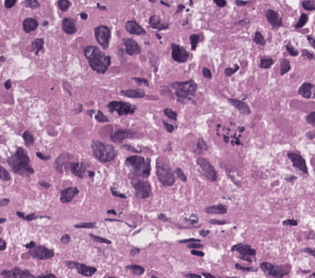nucleus: (83, 46, 110, 73), (91, 140, 116, 162), (170, 79, 196, 99), (126, 156, 150, 177), (156, 158, 174, 185), (197, 157, 216, 181), (288, 152, 307, 173), (94, 25, 110, 48), (107, 101, 135, 114), (228, 98, 250, 114), (133, 179, 151, 198), (171, 43, 188, 62), (110, 129, 134, 142), (55, 153, 71, 172), (123, 38, 140, 55), (265, 9, 281, 27), (149, 15, 168, 30), (60, 187, 78, 202), (125, 20, 144, 34), (298, 82, 313, 97), (70, 162, 86, 176), (62, 18, 76, 33), (120, 89, 144, 97), (205, 204, 226, 213), (90, 234, 110, 243), (295, 14, 307, 28), (32, 38, 43, 53), (280, 58, 290, 74), (253, 31, 264, 45), (224, 65, 238, 76), (175, 167, 186, 181), (164, 108, 176, 120), (259, 57, 272, 68), (190, 34, 199, 49), (95, 110, 107, 121), (57, 0, 70, 10), (122, 145, 140, 152), (111, 188, 125, 197), (286, 44, 297, 55), (163, 121, 174, 132), (133, 77, 148, 85), (306, 111, 314, 126), (197, 138, 207, 150), (75, 222, 95, 228), (302, 49, 313, 59), (302, 1, 314, 10), (202, 67, 211, 78), (185, 215, 197, 223), (36, 152, 48, 159), (283, 219, 297, 225), (209, 219, 225, 224), (179, 238, 199, 242), (188, 242, 201, 248), (307, 36, 314, 47), (214, 0, 226, 6), (61, 234, 69, 243), (176, 4, 184, 12), (39, 181, 49, 187), (199, 230, 209, 236), (158, 214, 167, 220), (235, 1, 248, 5), (307, 131, 313, 139), (161, 1, 169, 6), (97, 4, 105, 9), (80, 13, 86, 19), (107, 210, 115, 214), (287, 177, 294, 180), (311, 157, 313, 165)
